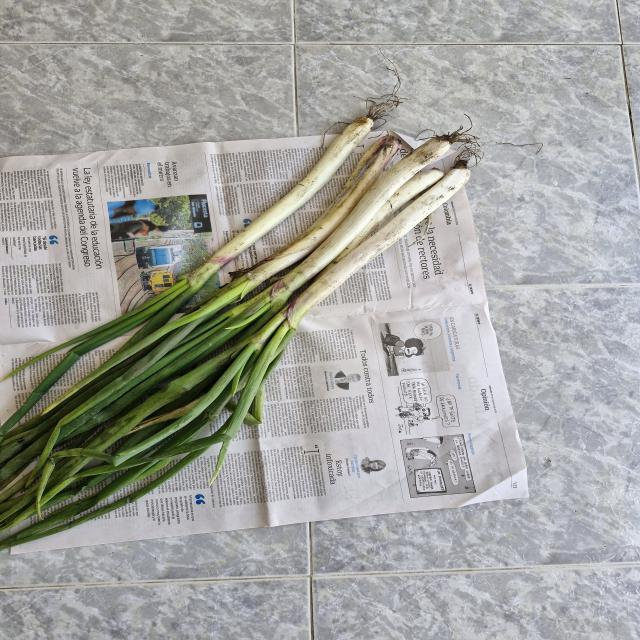green_onion: (0, 167, 471, 535), (0, 99, 382, 472)
